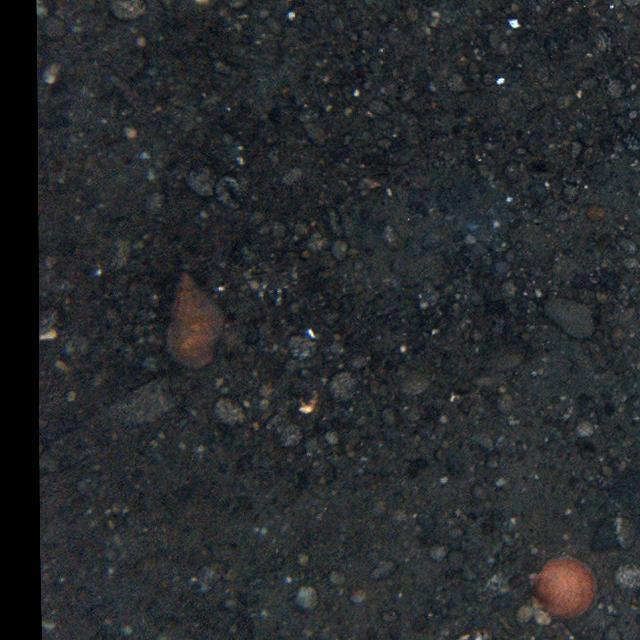whelk: (166, 270, 226, 371)
